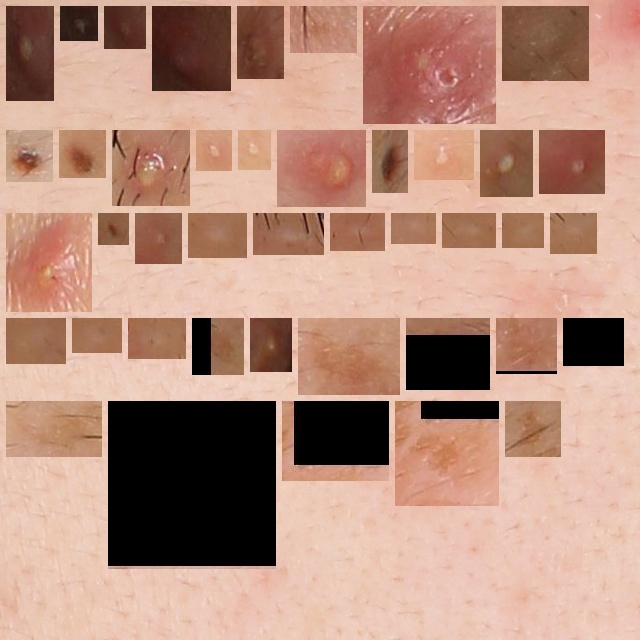hypertrophic_scar: (510, 14, 581, 73), (261, 221, 316, 247), (14, 326, 58, 356), (196, 221, 239, 250), (136, 326, 178, 351), (338, 221, 377, 243), (558, 221, 589, 246), (450, 221, 488, 240), (80, 326, 114, 345), (510, 221, 536, 240), (399, 221, 428, 236)
melasma: (116, 409, 268, 561), (403, 409, 491, 498), (290, 409, 381, 473), (306, 326, 392, 387), (414, 326, 482, 382), (14, 409, 94, 449), (504, 326, 549, 366), (513, 409, 553, 449), (298, 14, 349, 45), (200, 326, 236, 367), (571, 326, 616, 358)
nevus: (14, 138, 45, 174), (67, 138, 98, 170), (380, 138, 400, 185), (106, 221, 121, 237)
pustule: (371, 14, 488, 116), (14, 221, 84, 304), (285, 138, 358, 199), (160, 14, 223, 83), (120, 138, 182, 198), (14, 14, 46, 93), (547, 138, 597, 186), (488, 138, 525, 189), (245, 14, 276, 71), (422, 138, 466, 172), (143, 221, 174, 256), (258, 326, 284, 364), (112, 14, 138, 41), (204, 138, 224, 163), (68, 14, 90, 33), (246, 138, 263, 162)
